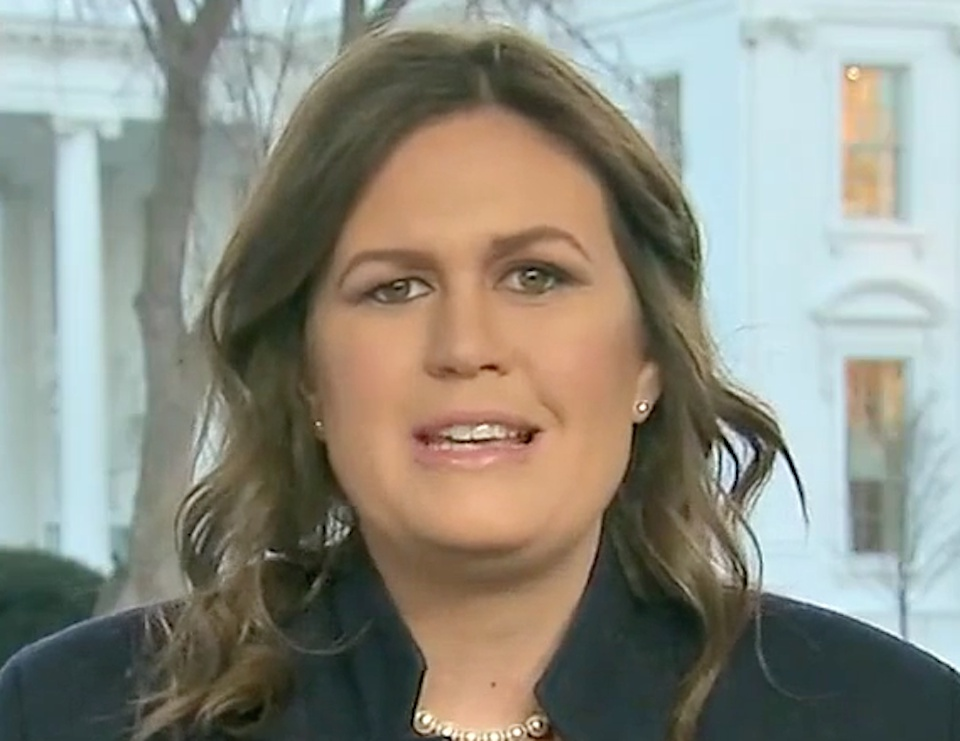mouth: (402, 406, 545, 473)
nose: (421, 336, 510, 381)
